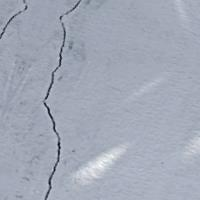crack: (1, 2, 88, 199)
